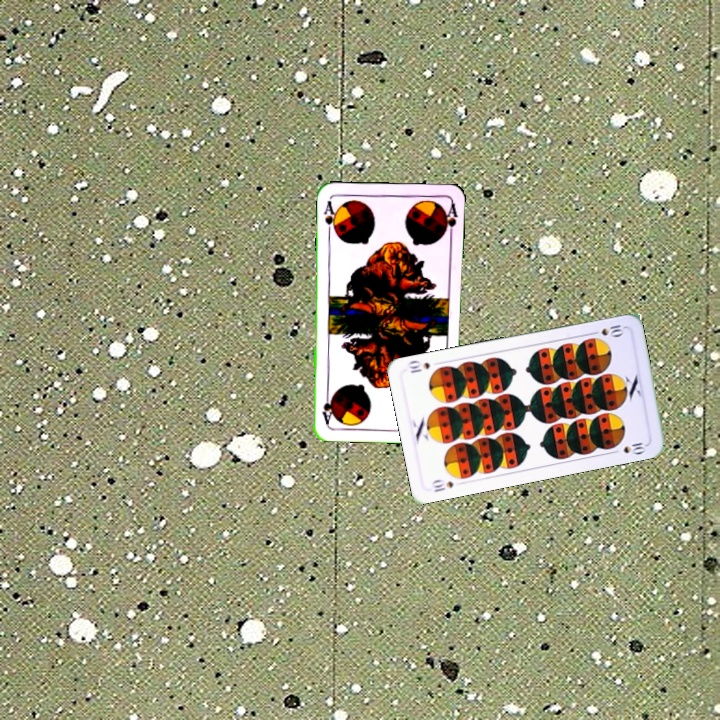S10: (586, 321, 627, 339), (428, 476, 456, 495)
SA: (319, 197, 339, 237)
